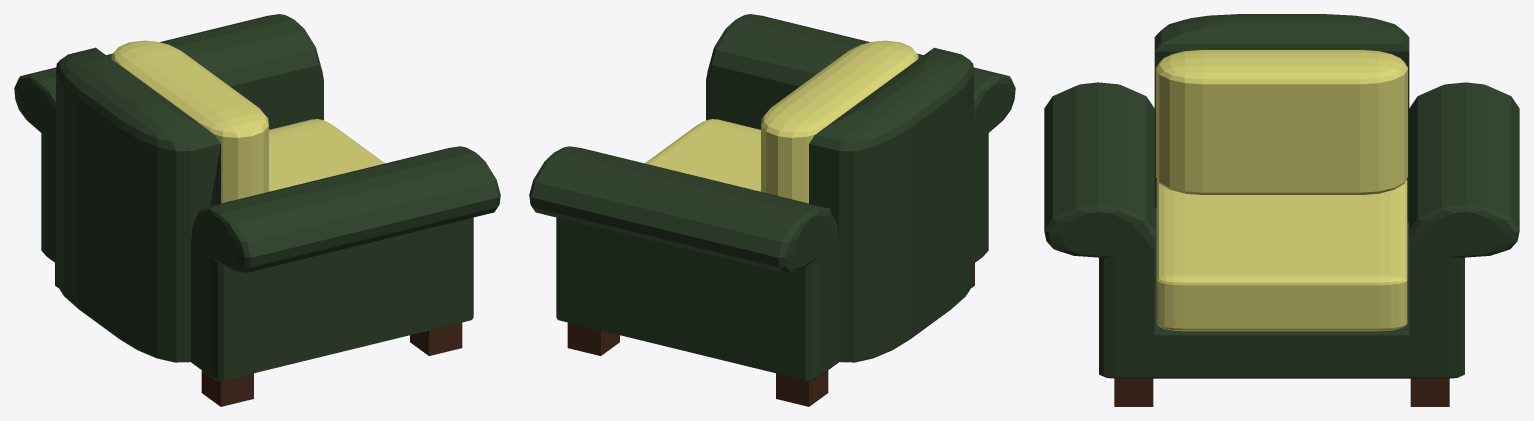
The model's file is tekli_koltug.fbx.
3 renders of one model, left to right at view 1: azimuth 30°, elevation 25°; view 2: azimuth 150°, elevation 25°; view 3: azimuth 270°, elevation 25°, orthographic.
Visible parts, largest first — view 1: Cube; view 2: Cube; view 3: Cube.
Boxes of the visible parts, x1,y1,x2,y2 form: Cube: (14,14,500,406); Cube: (529,14,1015,406); Cube: (1044,14,1519,406).
Size of the model in its own units: 252 by 218 by 356.
